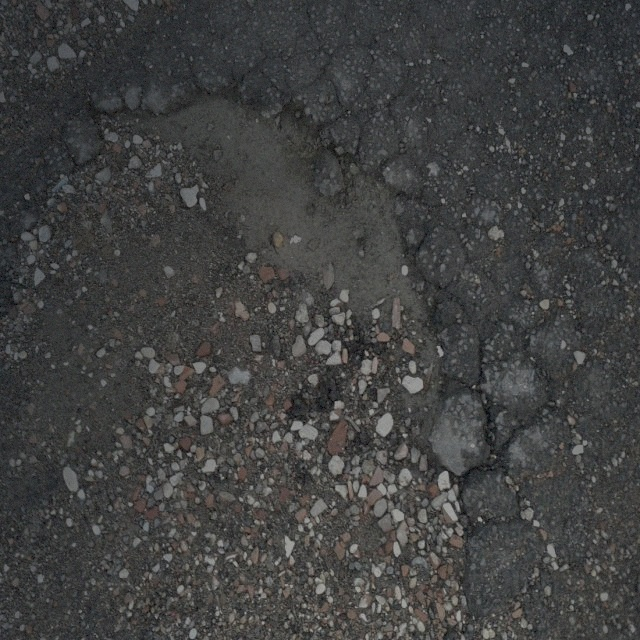pothole: (143, 69, 449, 459)
